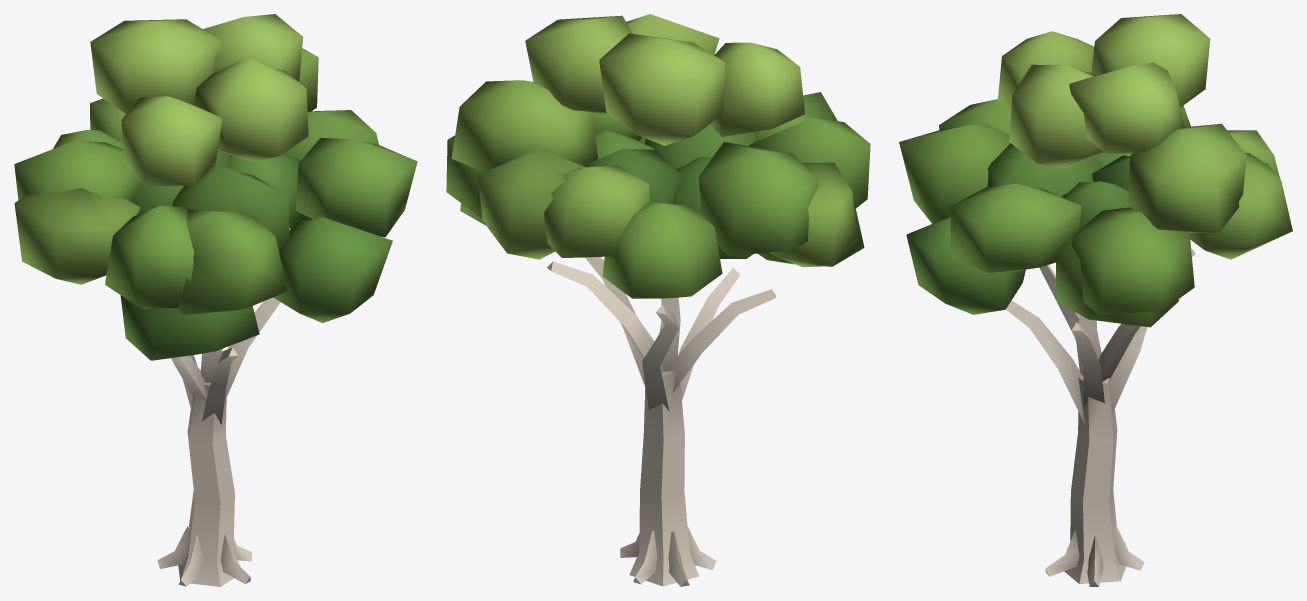
The model's file is oak.far.glb.
The picture shows the model from 3 angles, left to right: view 1: azimuth 30°, elevation 25°; view 2: azimuth 150°, elevation 25°; view 3: azimuth 270°, elevation 25°; orthographic projection. The views are drawn at different scales.
Parts seen in each view (by area): view 1: oak; view 2: oak; view 3: oak.
Part boxes in pixels (box(x1,y1,x2,y2)): oak: box(14, 14, 417, 586); oak: box(446, 14, 870, 586); oak: box(899, 14, 1292, 586).
Size of the model in its own units: 5.28 by 7.52 by 4.97.
